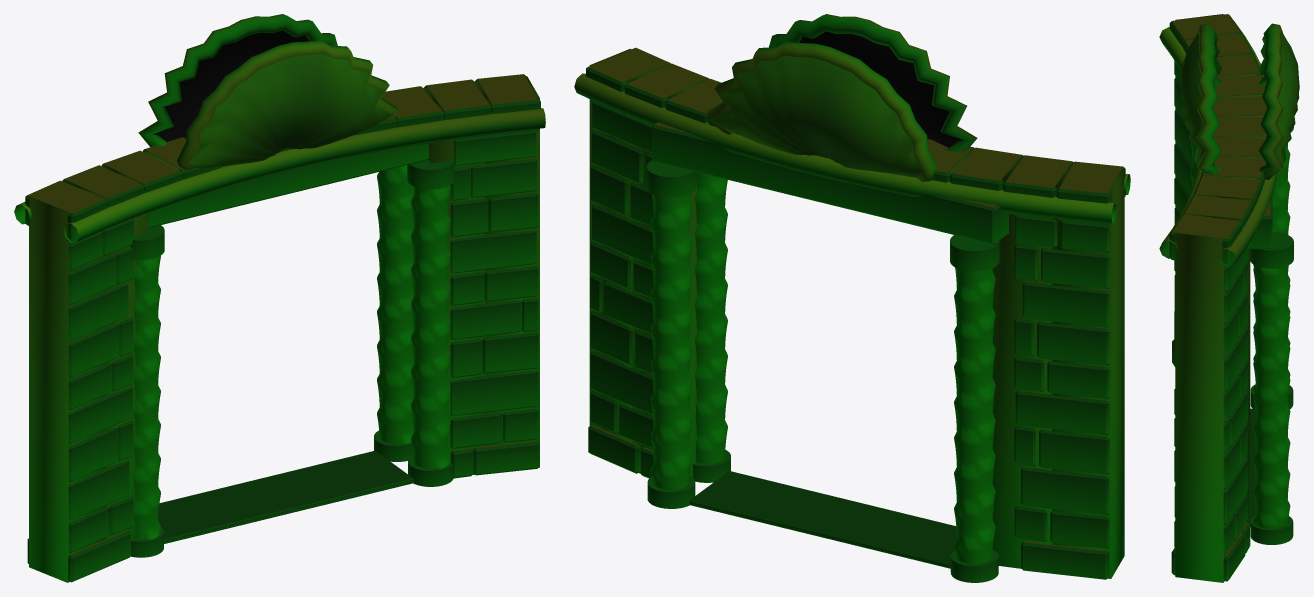
Rendered from shrine_wall_portal.glb.
3 views of the same model, side by side, from view 1: azimuth 30°, elevation 25°; view 2: azimuth 150°, elevation 25°; view 3: azimuth 270°, elevation 25° (orthographic). The views are drawn at different scales.
Visible parts, largest first — view 1: shrine_wall_portal; view 2: shrine_wall_portal; view 3: shrine_wall_portal.
Boxes of the visible parts, x1,y1,x2,y2 form: shrine_wall_portal: (14, 14, 545, 582); shrine_wall_portal: (574, 14, 1130, 582); shrine_wall_portal: (1159, 14, 1299, 582).
Size of what is drawn, in the model's own units: 6.1 by 5.31 by 1.55.
